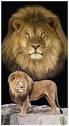lion: (8, 5, 63, 76), (7, 71, 62, 119)
